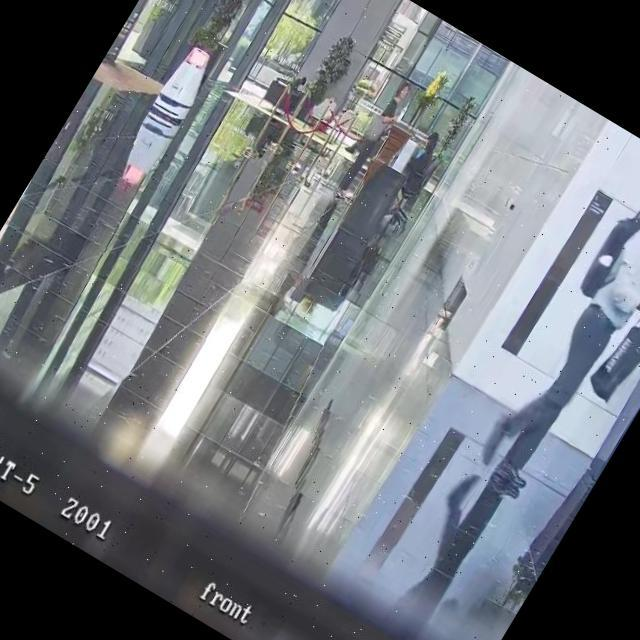person: (472, 160, 640, 517), (330, 75, 420, 205), (397, 128, 446, 192), (271, 70, 311, 120)
